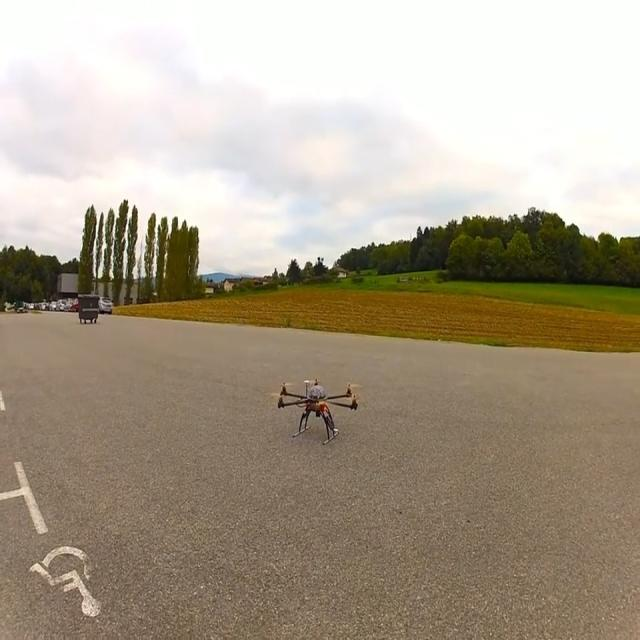drone: (277, 378, 361, 445)
